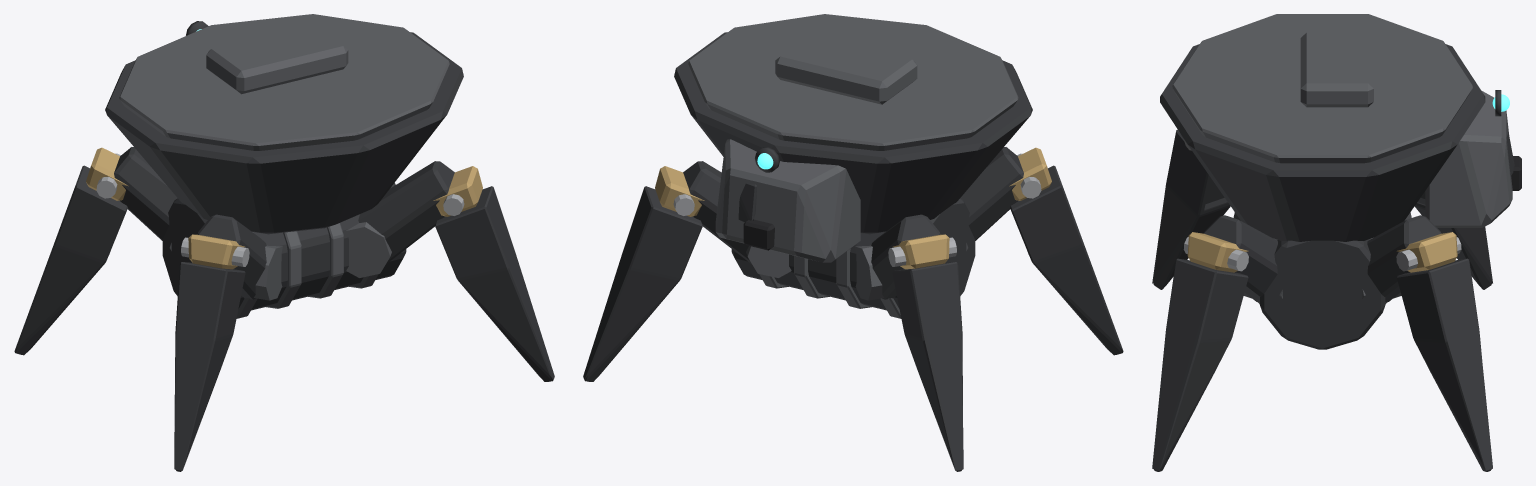
Rendered from crab.glb.
3 views of the same model, side by side, from view 1: azimuth 30°, elevation 25°; view 2: azimuth 150°, elevation 25°; view 3: azimuth 270°, elevation 25° (orthographic). The views are drawn at different scales.
Visible parts, largest first — view 1: body, calf_3, calf_2, calf_1, thigh_3, thigh_2, thigh_1, knee_2, knee_3, knee_1; view 2: body, calf_0, calf_1, calf_2, thigh_1, thigh_2, thigh_0, knee_1, knee_0, knee_2; view 3: body, calf_3, calf_0, calf_2, thigh_0, thigh_3, knee_3, knee_0, calf_1.
Part boxes in pixels (x1,y1,x2,y2): body: (105, 14, 463, 318); calf_3: (435, 186, 554, 381); calf_2: (174, 262, 245, 471); calf_1: (14, 165, 127, 355); thigh_3: (345, 161, 454, 277); thigh_2: (197, 214, 282, 300); thigh_1: (114, 147, 177, 250); knee_2: (181, 234, 249, 269); knee_3: (433, 166, 482, 216); knee_1: (86, 147, 128, 200); body: (674, 14, 1032, 318); calf_0: (583, 186, 702, 381); calf_1: (892, 262, 963, 471); calf_2: (1010, 165, 1123, 355); thigh_1: (855, 214, 940, 300); thigh_2: (960, 147, 1023, 250); thigh_0: (683, 161, 791, 277); knee_1: (888, 234, 956, 269); knee_0: (655, 166, 704, 216); knee_2: (1009, 147, 1051, 200); body: (1160, 14, 1521, 349); calf_3: (1152, 258, 1248, 471); calf_0: (1397, 258, 1492, 471); calf_2: (1152, 129, 1230, 289); thigh_0: (1362, 215, 1441, 302); thigh_3: (1204, 215, 1282, 302); knee_3: (1183, 232, 1248, 272); knee_0: (1396, 232, 1461, 272); calf_1: (1414, 191, 1492, 289).
Size of the model in its own units: 3.06 by 2.43 by 2.52.
